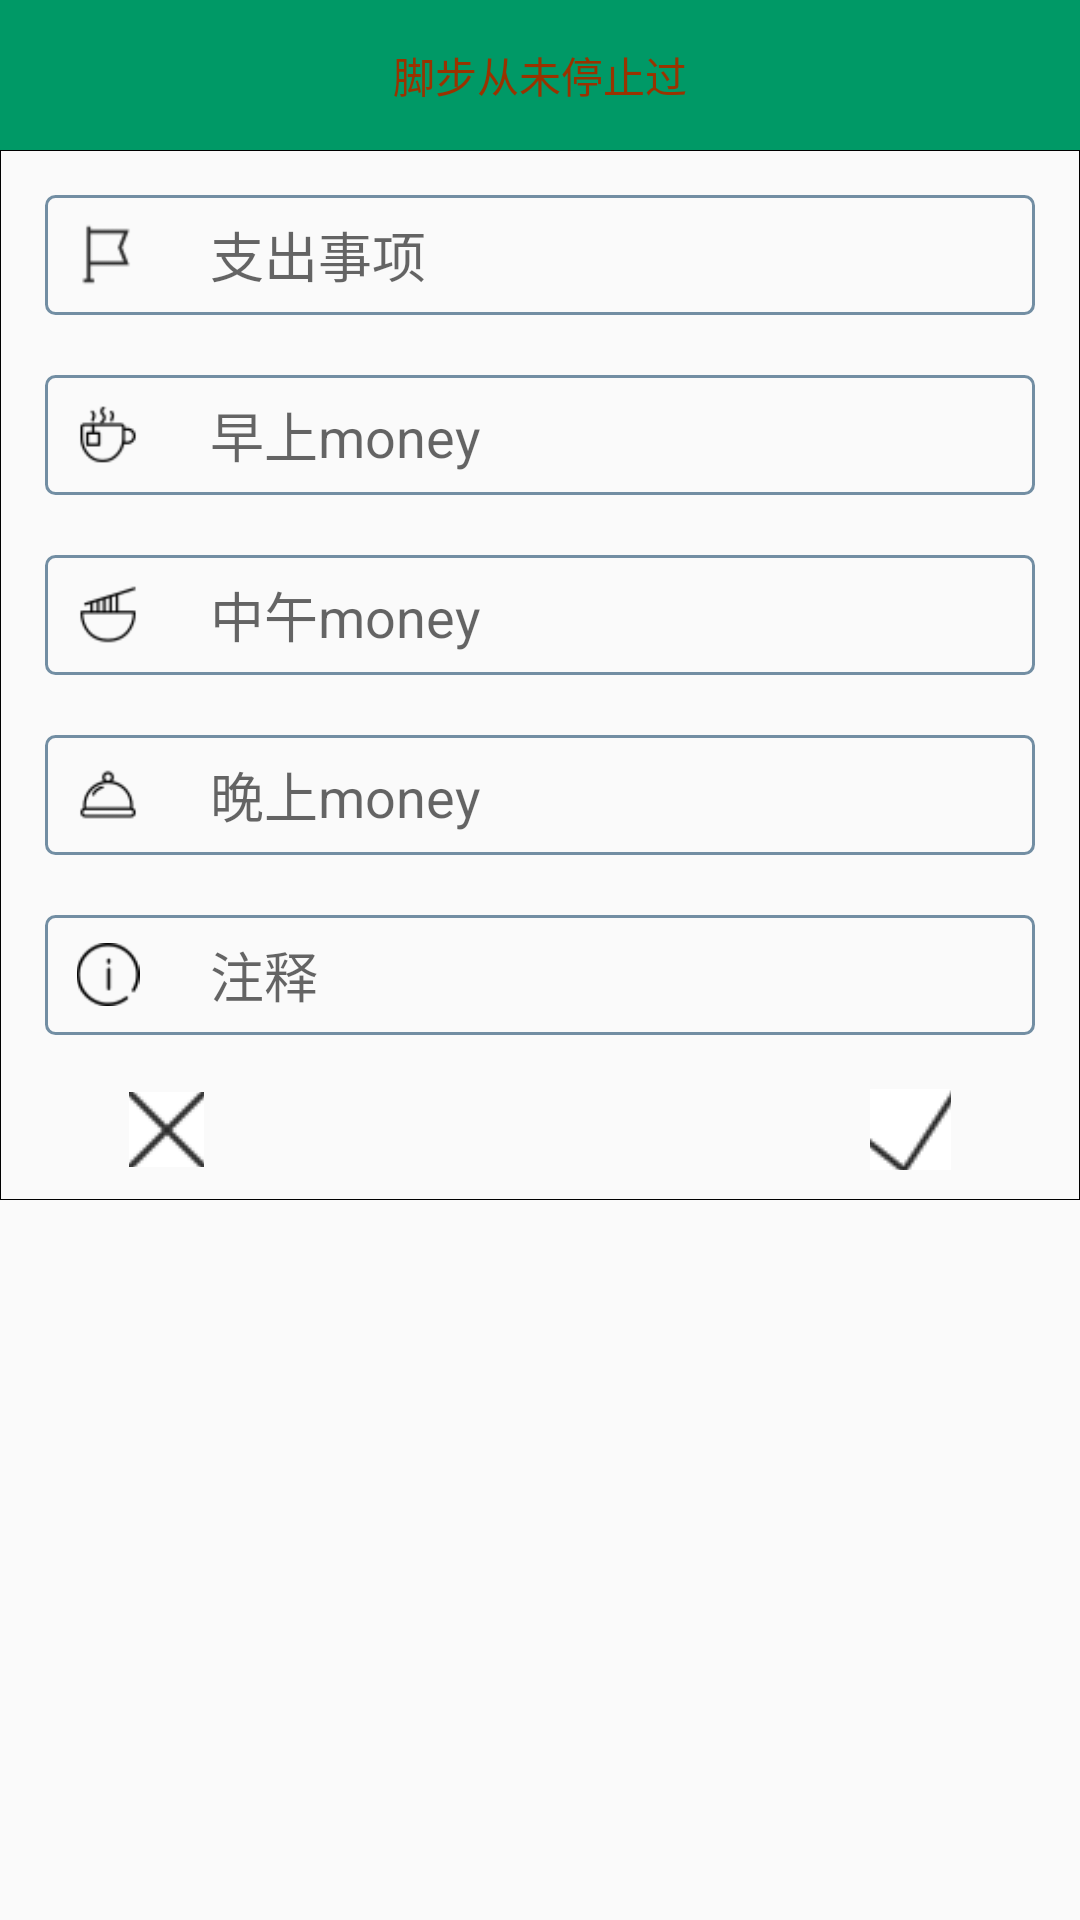

Named icons in this screenshot (1080px×1920px) and their centers, point (x, y):
cancel: point (166, 1129)
checked: point (910, 1130)
evening: point (108, 794)
flag: point (106, 254)
information: point (108, 974)
morning: point (108, 434)
noon: point (108, 614)
